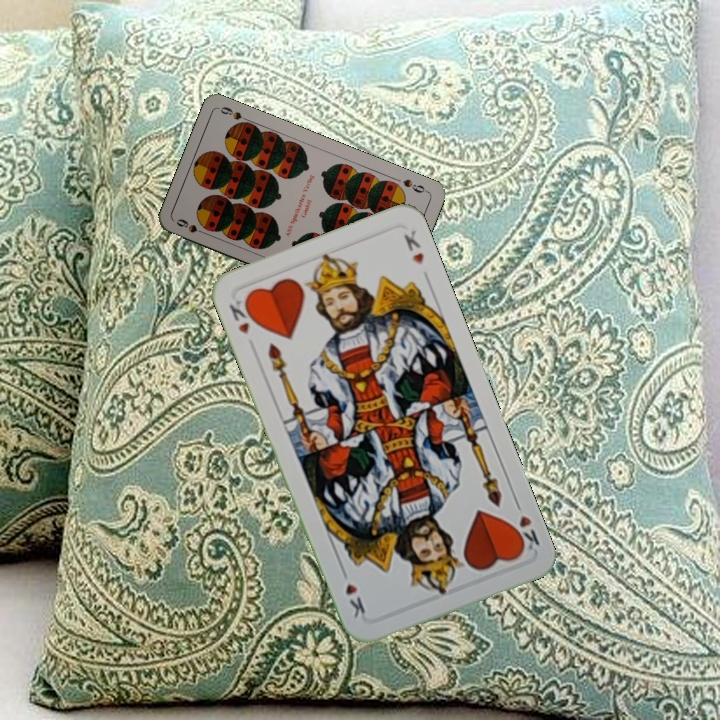HK: (507, 496, 542, 555), (225, 292, 259, 337)
S9: (172, 215, 210, 238), (399, 175, 431, 196)
